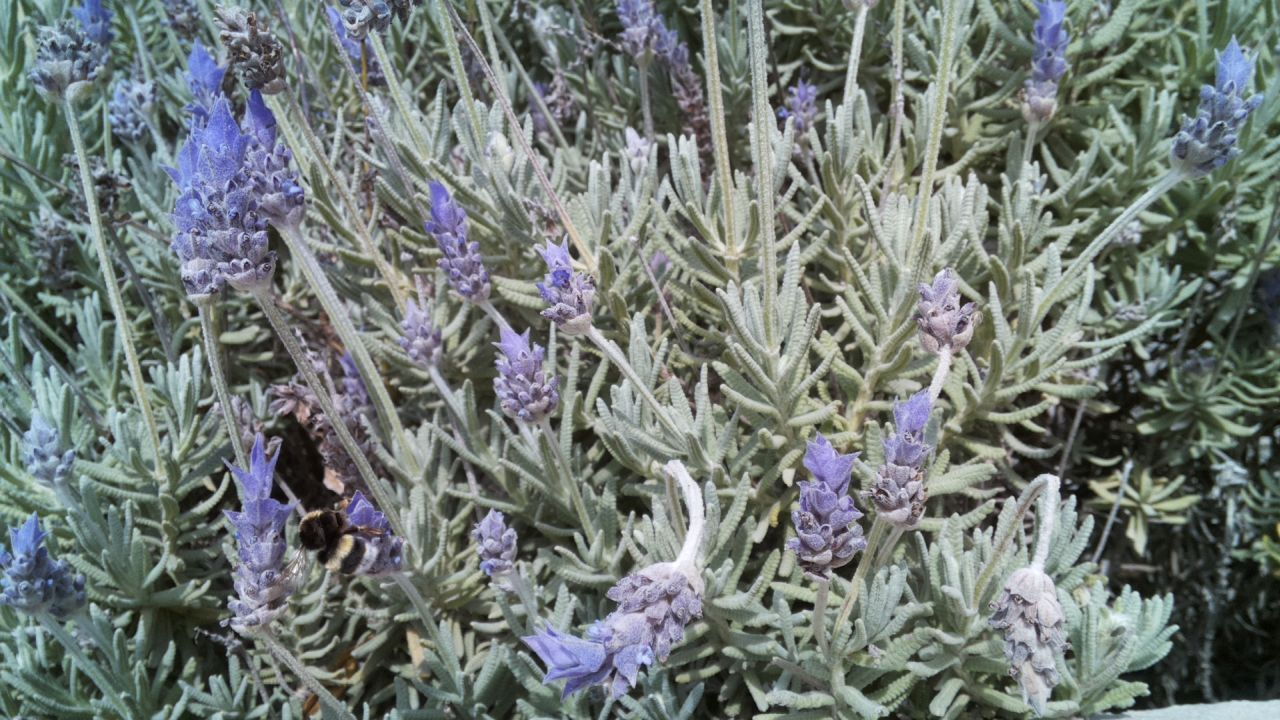Bombus terrestris: (278, 496, 382, 596)
